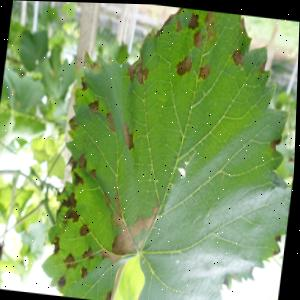Folha: (40, 1, 300, 300), (0, 71, 50, 141), (0, 235, 29, 291)
Fungo: (178, 147, 198, 178), (82, 51, 104, 75), (121, 123, 138, 150), (175, 54, 194, 77), (64, 251, 81, 271), (231, 47, 246, 67), (65, 207, 82, 224), (105, 111, 118, 133), (197, 61, 212, 80), (71, 170, 86, 187), (188, 10, 200, 31), (77, 151, 90, 170), (192, 28, 204, 48), (274, 233, 284, 255), (239, 16, 250, 36), (0, 239, 7, 269), (83, 246, 97, 261), (53, 236, 63, 256), (80, 223, 93, 238), (89, 99, 101, 115), (68, 116, 80, 132), (136, 65, 146, 84), (90, 59, 102, 74), (69, 191, 79, 208), (270, 137, 282, 150), (66, 252, 78, 265), (204, 9, 214, 24), (80, 76, 89, 92), (59, 275, 69, 288), (82, 266, 91, 279), (90, 168, 99, 181), (0, 241, 6, 260), (142, 66, 150, 80), (178, 165, 187, 177), (13, 98, 22, 108), (176, 20, 183, 32), (107, 290, 115, 300), (276, 233, 284, 242), (11, 87, 16, 93)
